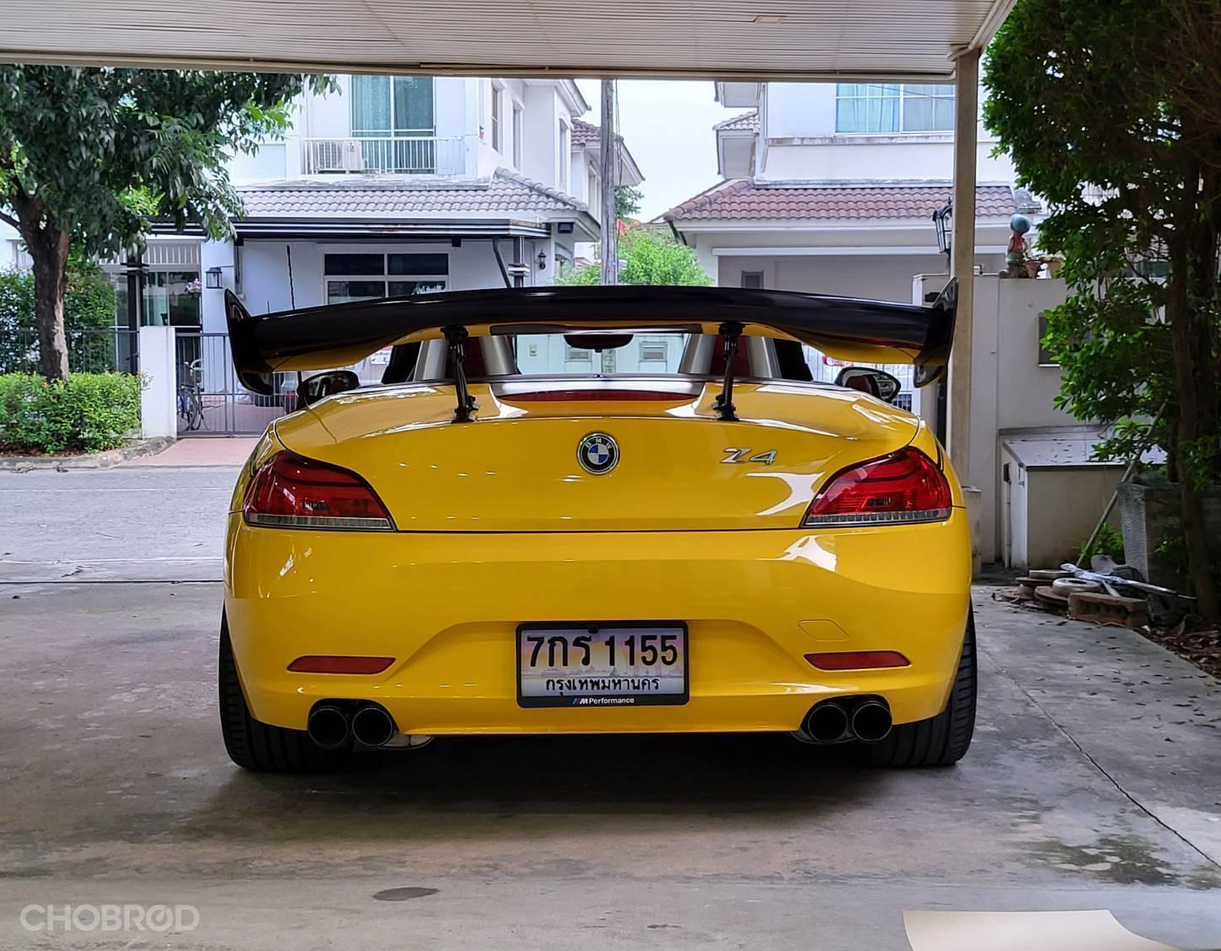license-plate: (515, 614, 695, 710)
